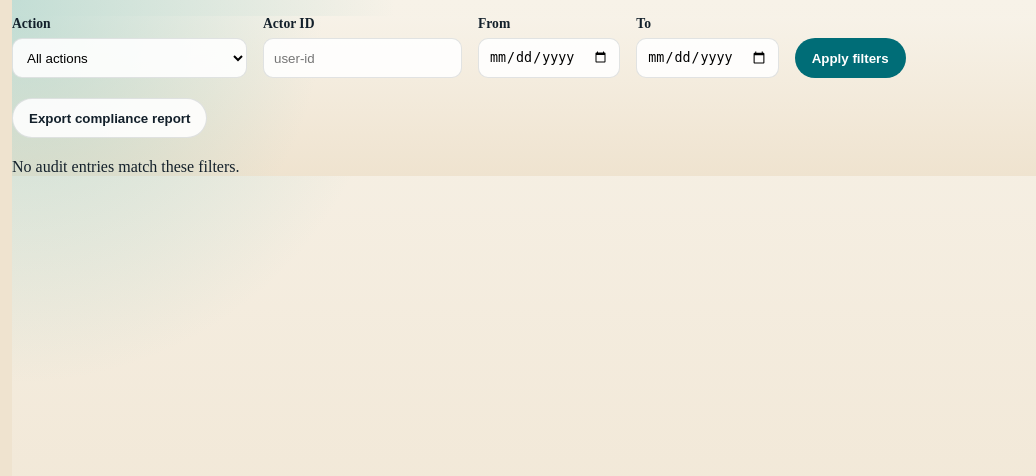
Test: AuditLog › downloads a signed export bundle when 'Export compliance report' is clicked
Check: the text "No audit entries match these filters." is shown, box [12,158,240,175]
Click the button "Export compliance report" at (110, 118), box [12,98,208,138]
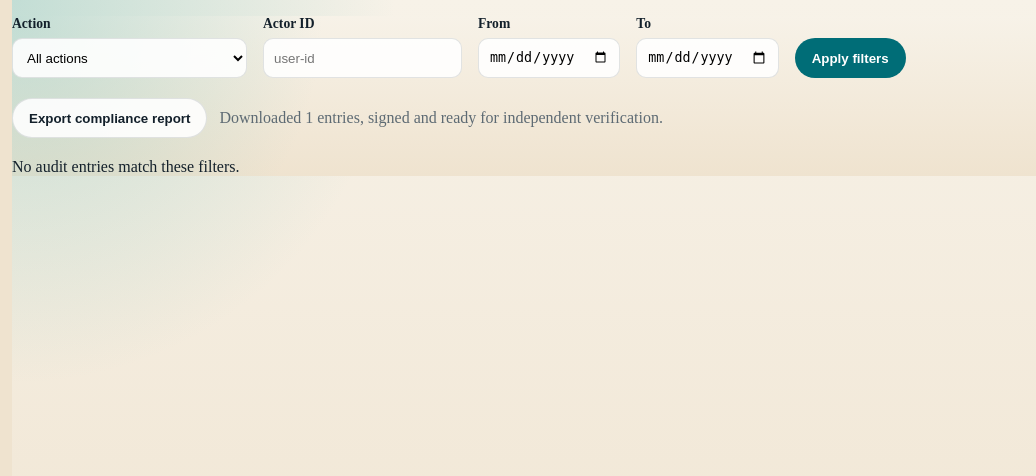
Check: the text "Downloaded 1 entries" is shown, box [220,109,663,126]
